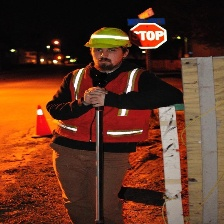helmet: (84, 26, 132, 53)
person: (42, 26, 186, 224)
vest: (61, 66, 154, 145)
